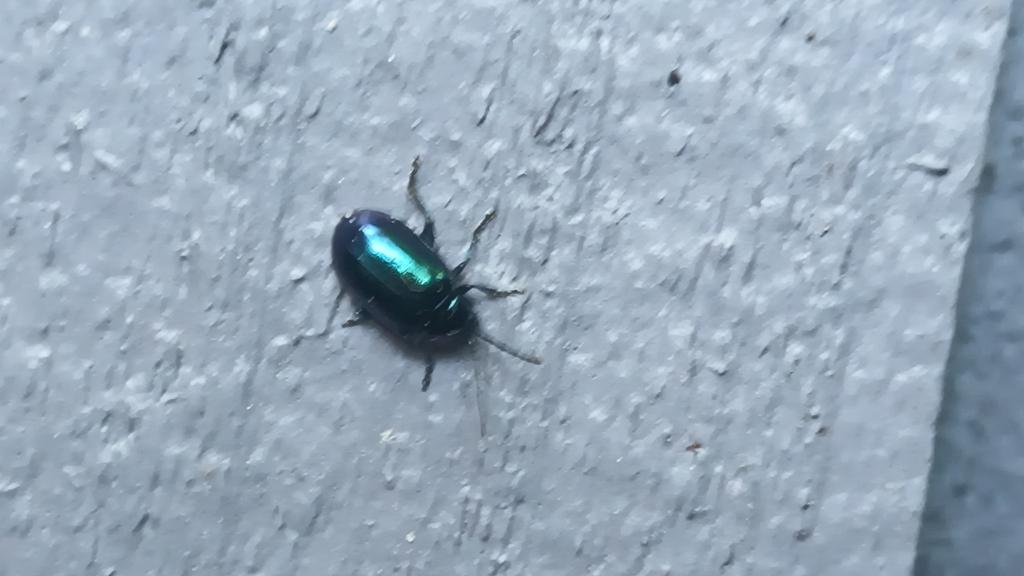flea_beetle: (302, 131, 572, 433)
